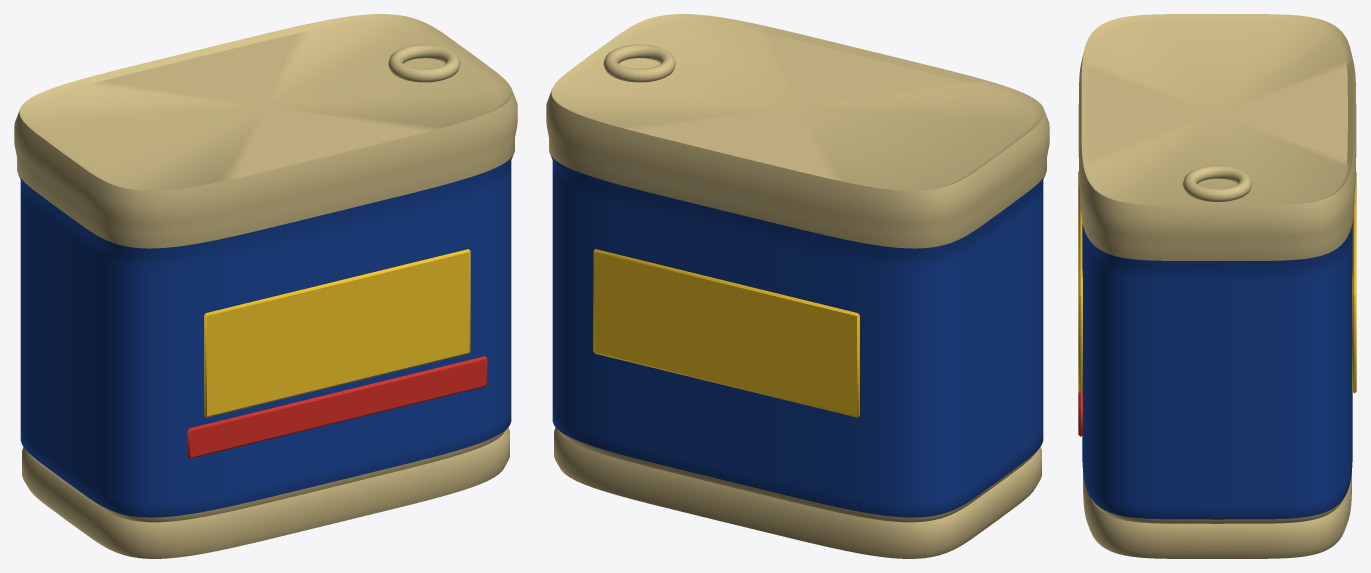
Rendered from item-spam-340.glb.
The picture shows the model from 3 angles, left to right: view 1: azimuth 30°, elevation 25°; view 2: azimuth 150°, elevation 25°; view 3: azimuth 270°, elevation 25°; orthographic projection. The views are drawn at different scales.
Parts seen in each view (by area): view 1: item-spam-340; view 2: item-spam-340; view 3: item-spam-340.
Part boxes in pixels (x1=…): item-spam-340: x1=14, y1=14, x2=517, y2=558; item-spam-340: x1=546, y1=14, x2=1049, y2=558; item-spam-340: x1=1078, y1=14, x2=1356, y2=558.
Size of the model in its own units: 0.1 by 0.0864 by 0.0602.
